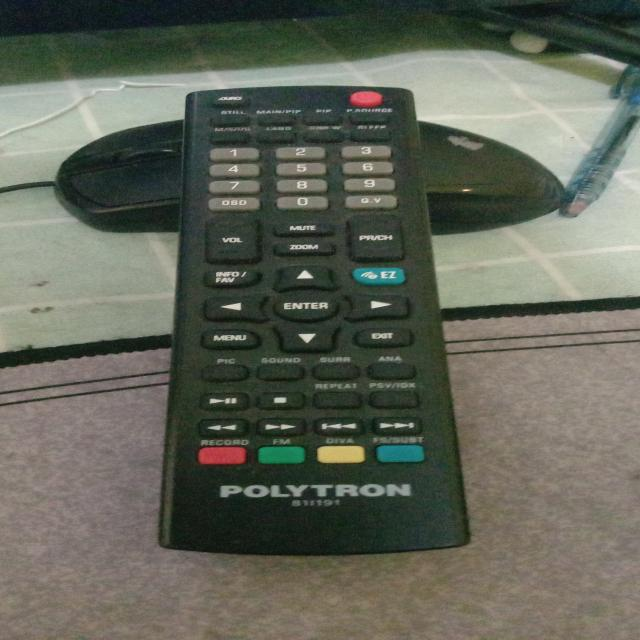remote: (150, 80, 442, 552)
